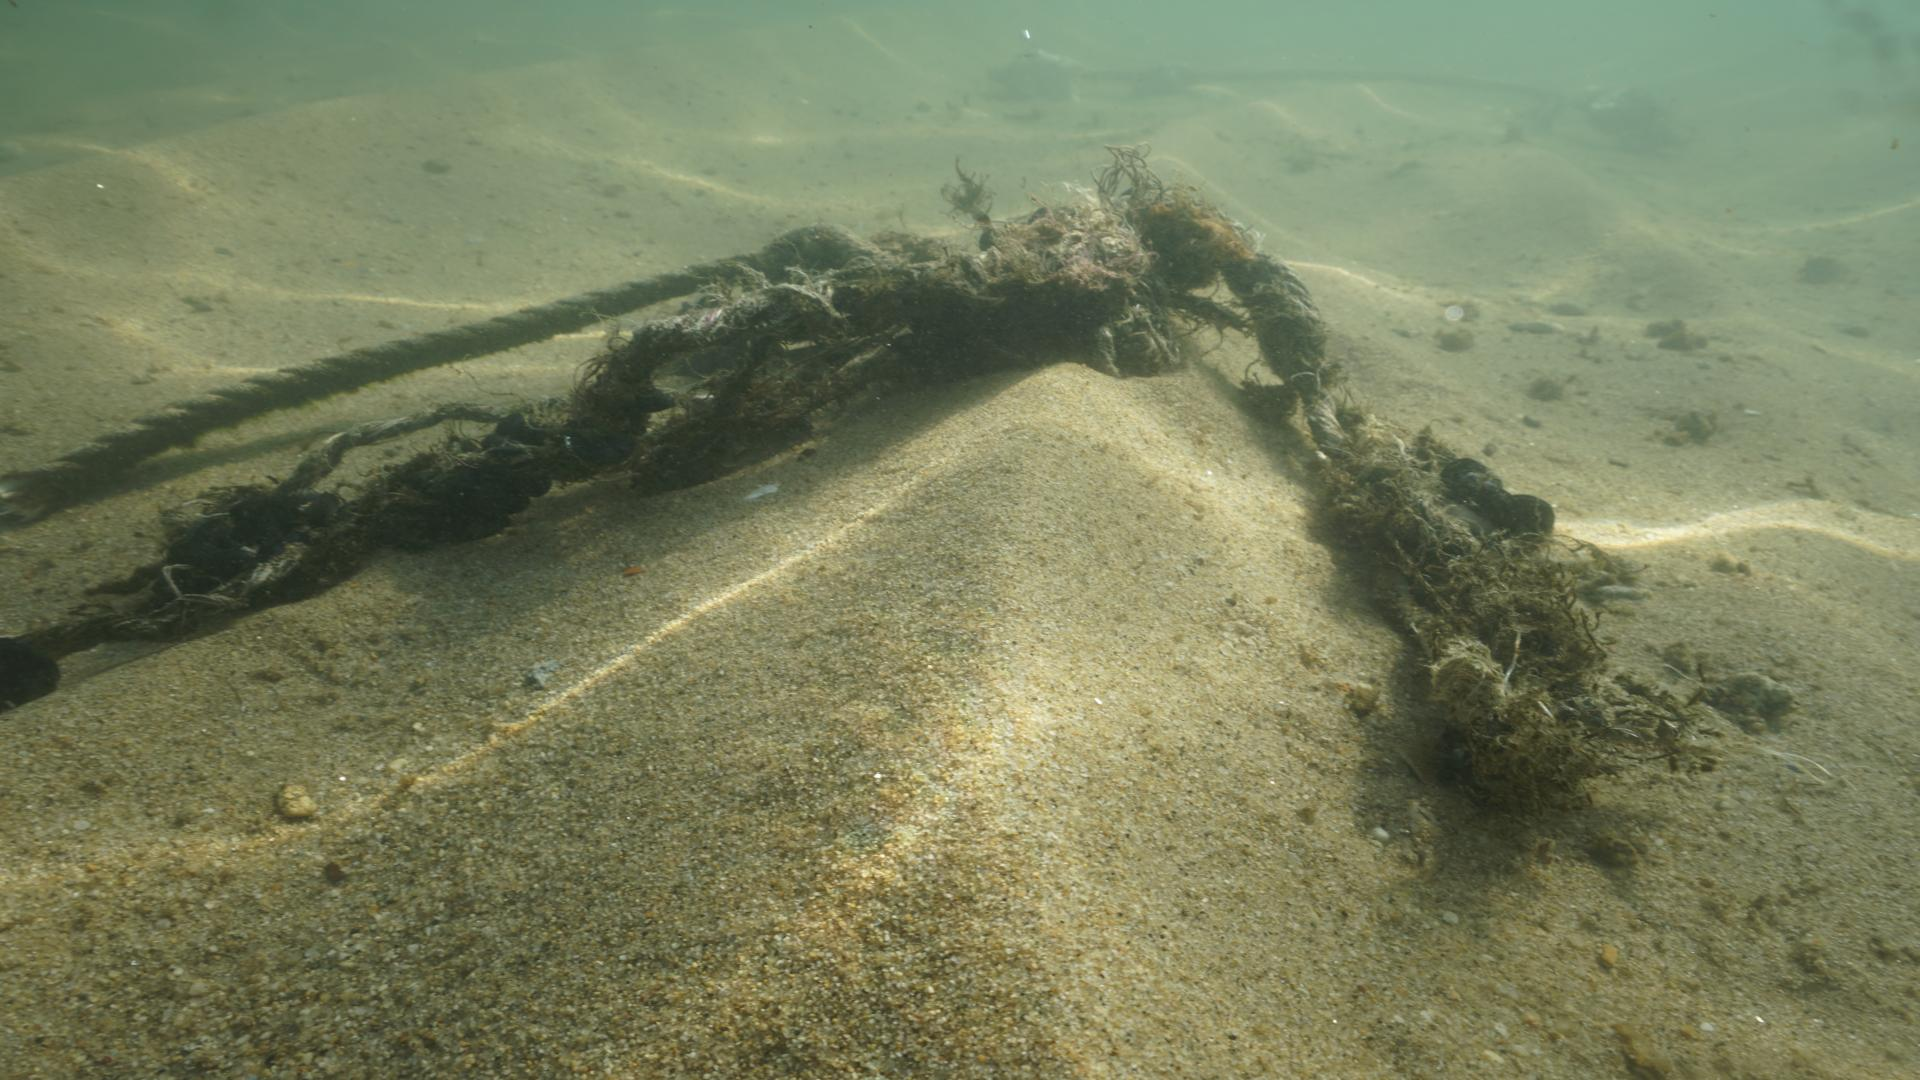rope: (0, 251, 770, 531)
